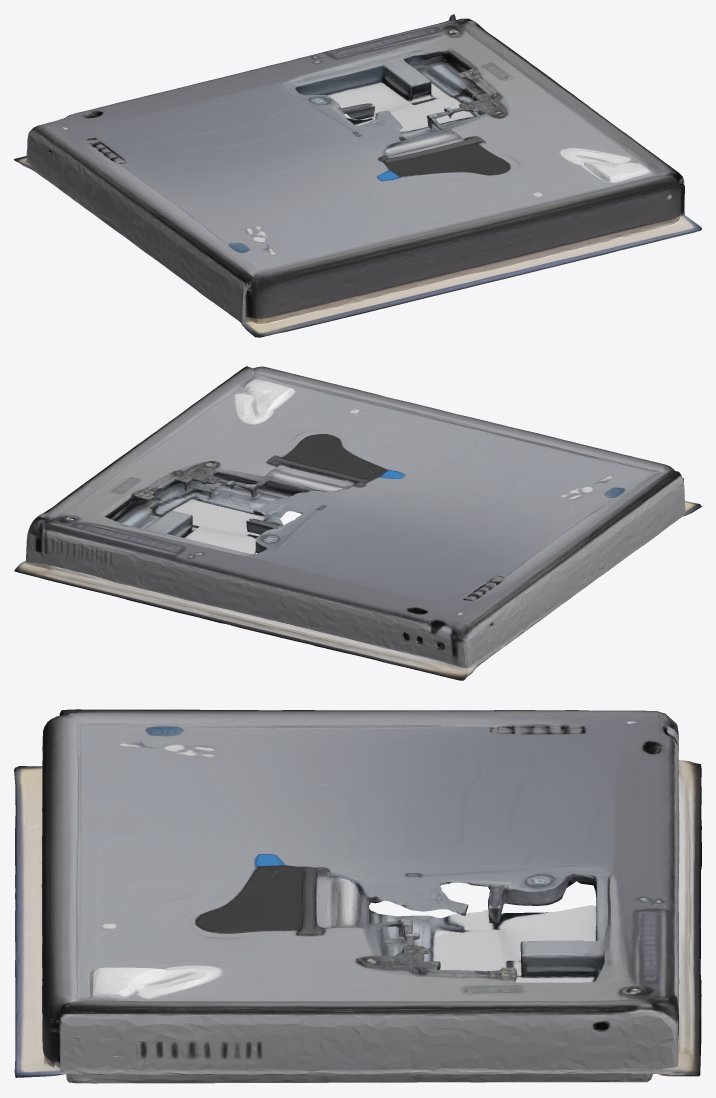
3 renders of one model, top to bottom at view 1: azimuth 30°, elevation 25°; view 2: azimuth 150°, elevation 25°; view 3: azimuth 270°, elevation 25°, orthographic. The views are drawn at different scales.
Visible parts, largest first — view 1: world; view 2: world; view 3: world.
Part boxes in pixels (box(x1,y1,x2,y2)): world: box(14, 14, 701, 337); world: box(14, 366, 701, 680); world: box(14, 709, 701, 1083).
Bounding box in the file's own units: 1 × 0.1329 × 0.9325.
1 material, 1 textured.
